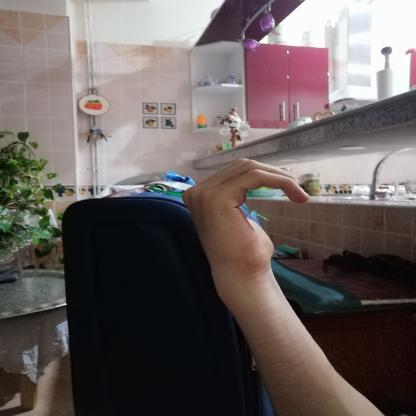HAA: (172, 148, 332, 290)
